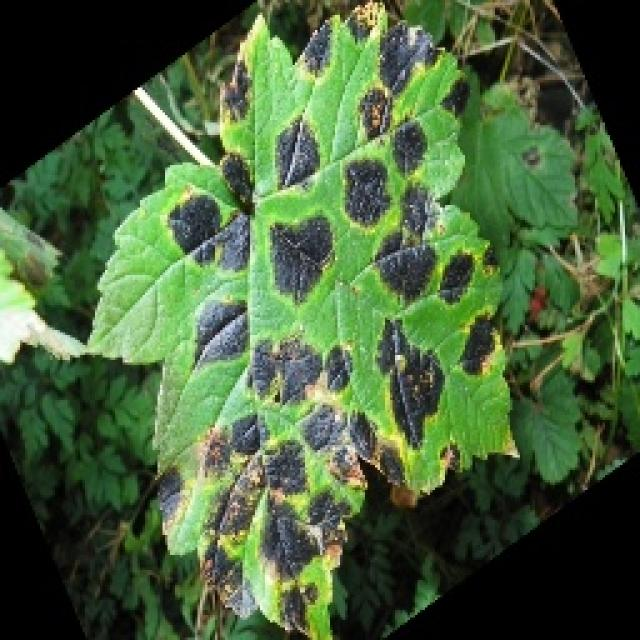Tar_Spot: (118, 50, 508, 640)
